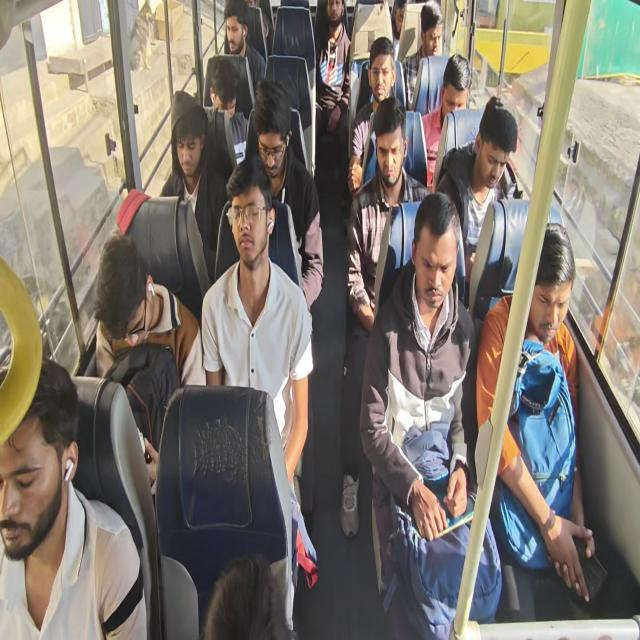person: (0, 357, 81, 570), (98, 244, 161, 356), (527, 225, 575, 341), (413, 207, 459, 319), (477, 91, 512, 188), (252, 102, 290, 182), (232, 192, 274, 261), (373, 112, 406, 188), (176, 92, 204, 173), (442, 53, 471, 123), (208, 68, 240, 119), (365, 62, 401, 105), (223, 8, 250, 62), (422, 8, 448, 56), (323, 0, 357, 33)
